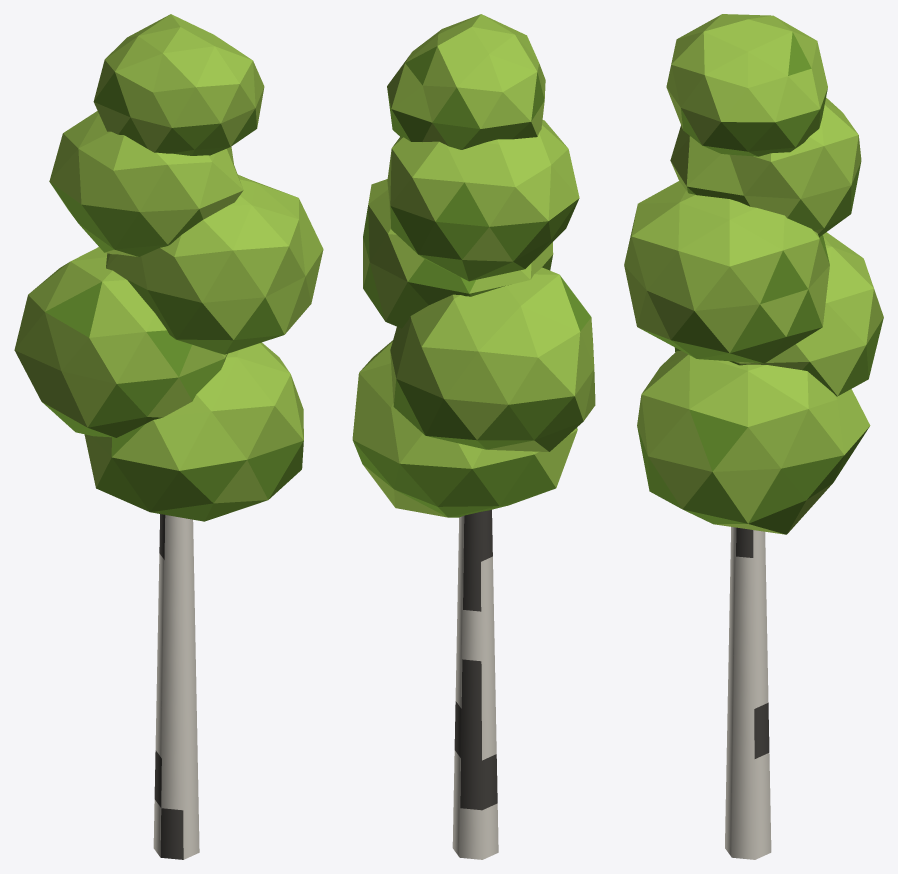
File: tree_birch_m.glb
The picture shows the model from 3 angles, left to right: view 1: azimuth 30°, elevation 25°; view 2: azimuth 150°, elevation 25°; view 3: azimuth 270°, elevation 25°; orthographic projection.
Parts seen in each view (by area): view 1: tree.birch.m; view 2: tree.birch.m; view 3: tree.birch.m.
Part boxes in pixels (x1,y1,x2,y2): tree.birch.m: (14, 14, 323, 859); tree.birch.m: (352, 14, 595, 859); tree.birch.m: (624, 14, 883, 859).
Bounding box in the file's own units: 3.2 × 10.02 × 2.83.
